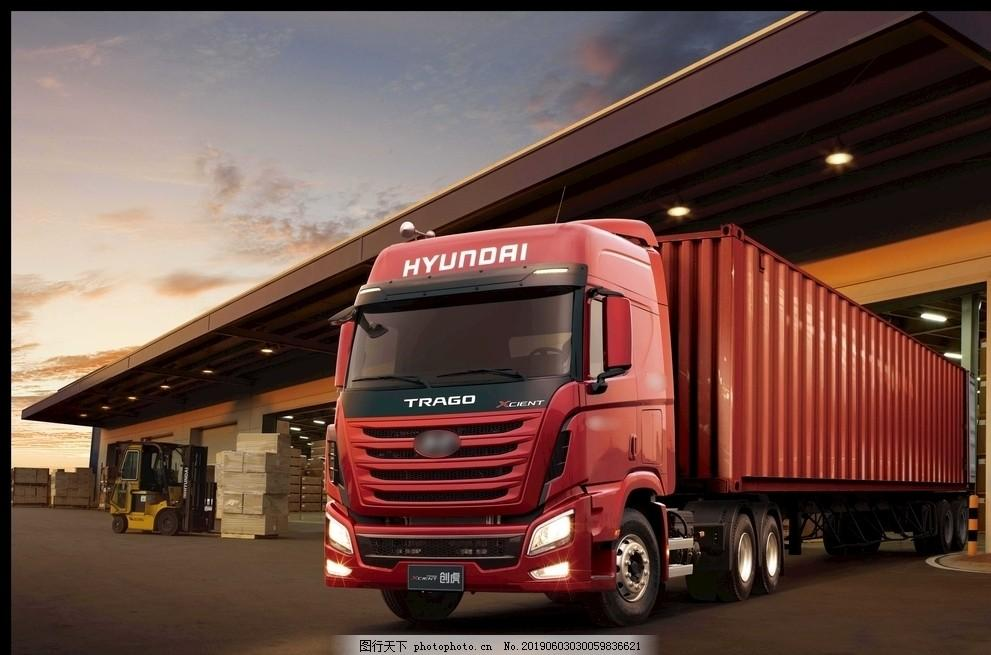truck: (320, 221, 980, 633)
